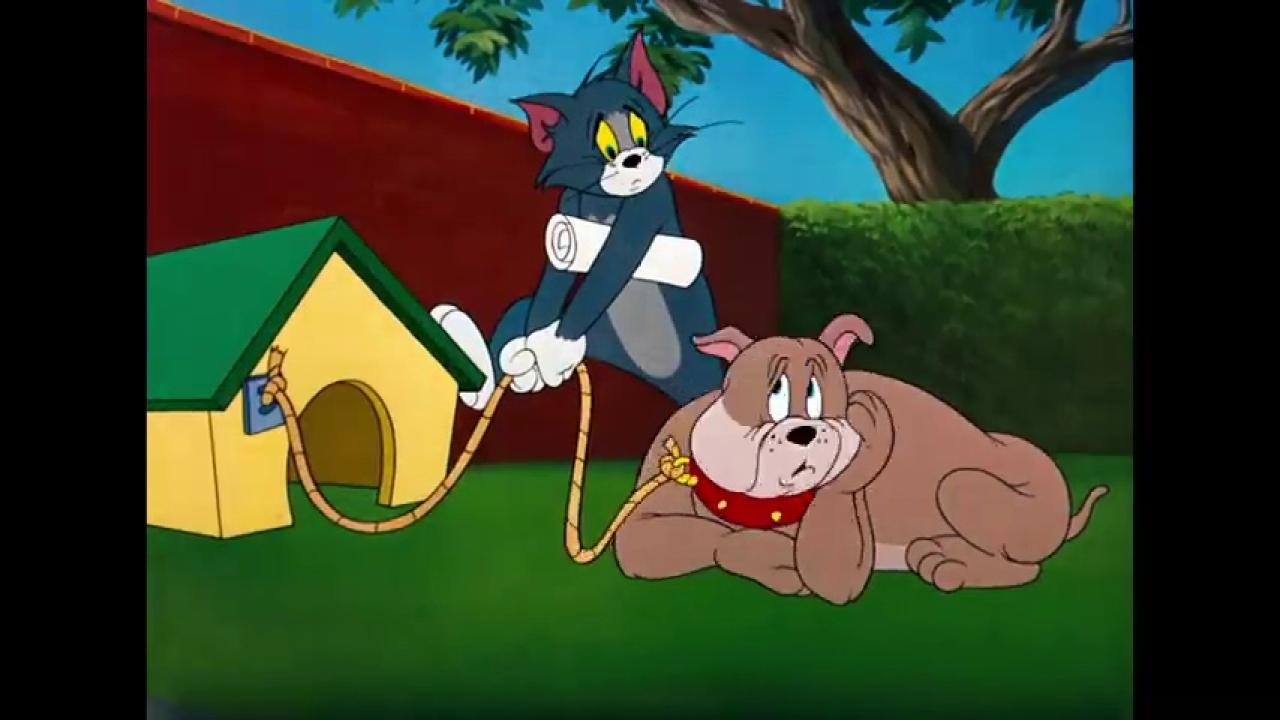Tom: (428, 22, 724, 412)
